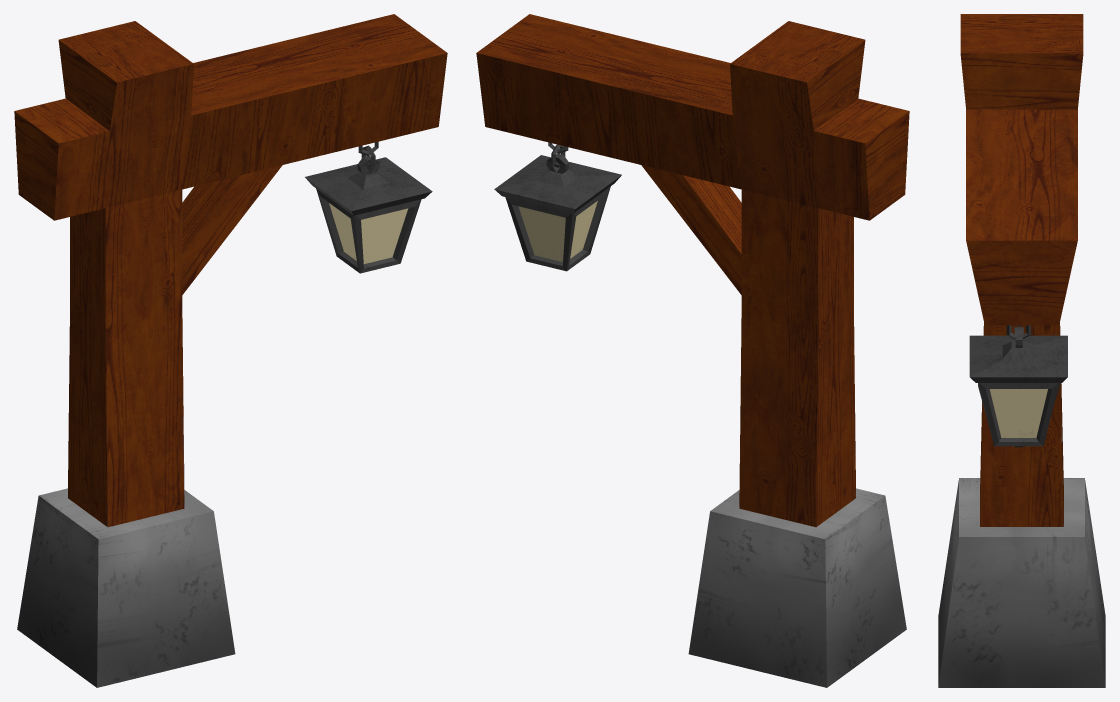
The model's file is Light_Post.fbx.
The picture shows the model from 3 angles, left to right: view 1: azimuth 30°, elevation 25°; view 2: azimuth 150°, elevation 25°; view 3: azimuth 270°, elevation 25°; orthographic projection. The views are drawn at different scales.
Visible parts, largest first — view 1: Light_Post; view 2: Light_Post; view 3: Light_Post.
Part boxes in pixels (box(x1,y1,x2,y2)): Light_Post: box(14, 14, 447, 687); Light_Post: box(476, 14, 909, 687); Light_Post: box(938, 14, 1105, 687).
Size of the model in its own units: 1.5 by 2.2 by 0.54.
